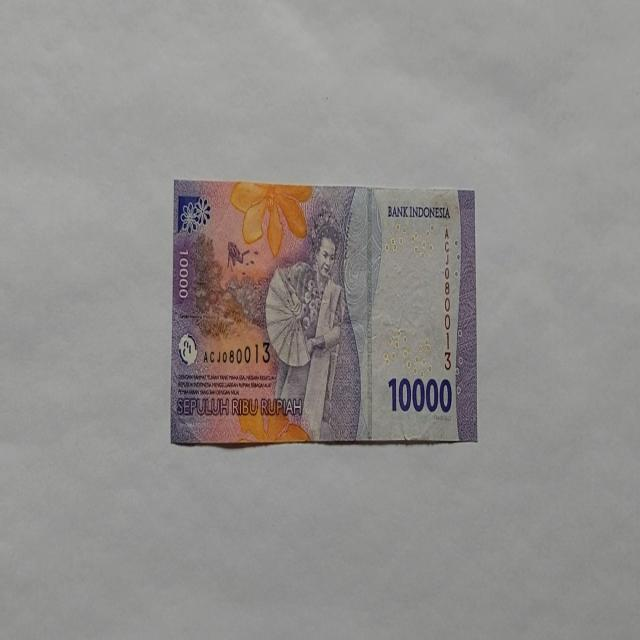sepuluh ribu rupiah: (169, 178, 477, 448)
